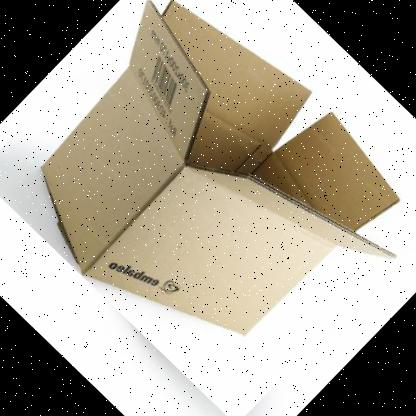box: (40, 1, 400, 337)
opened: (128, 1, 400, 260)
